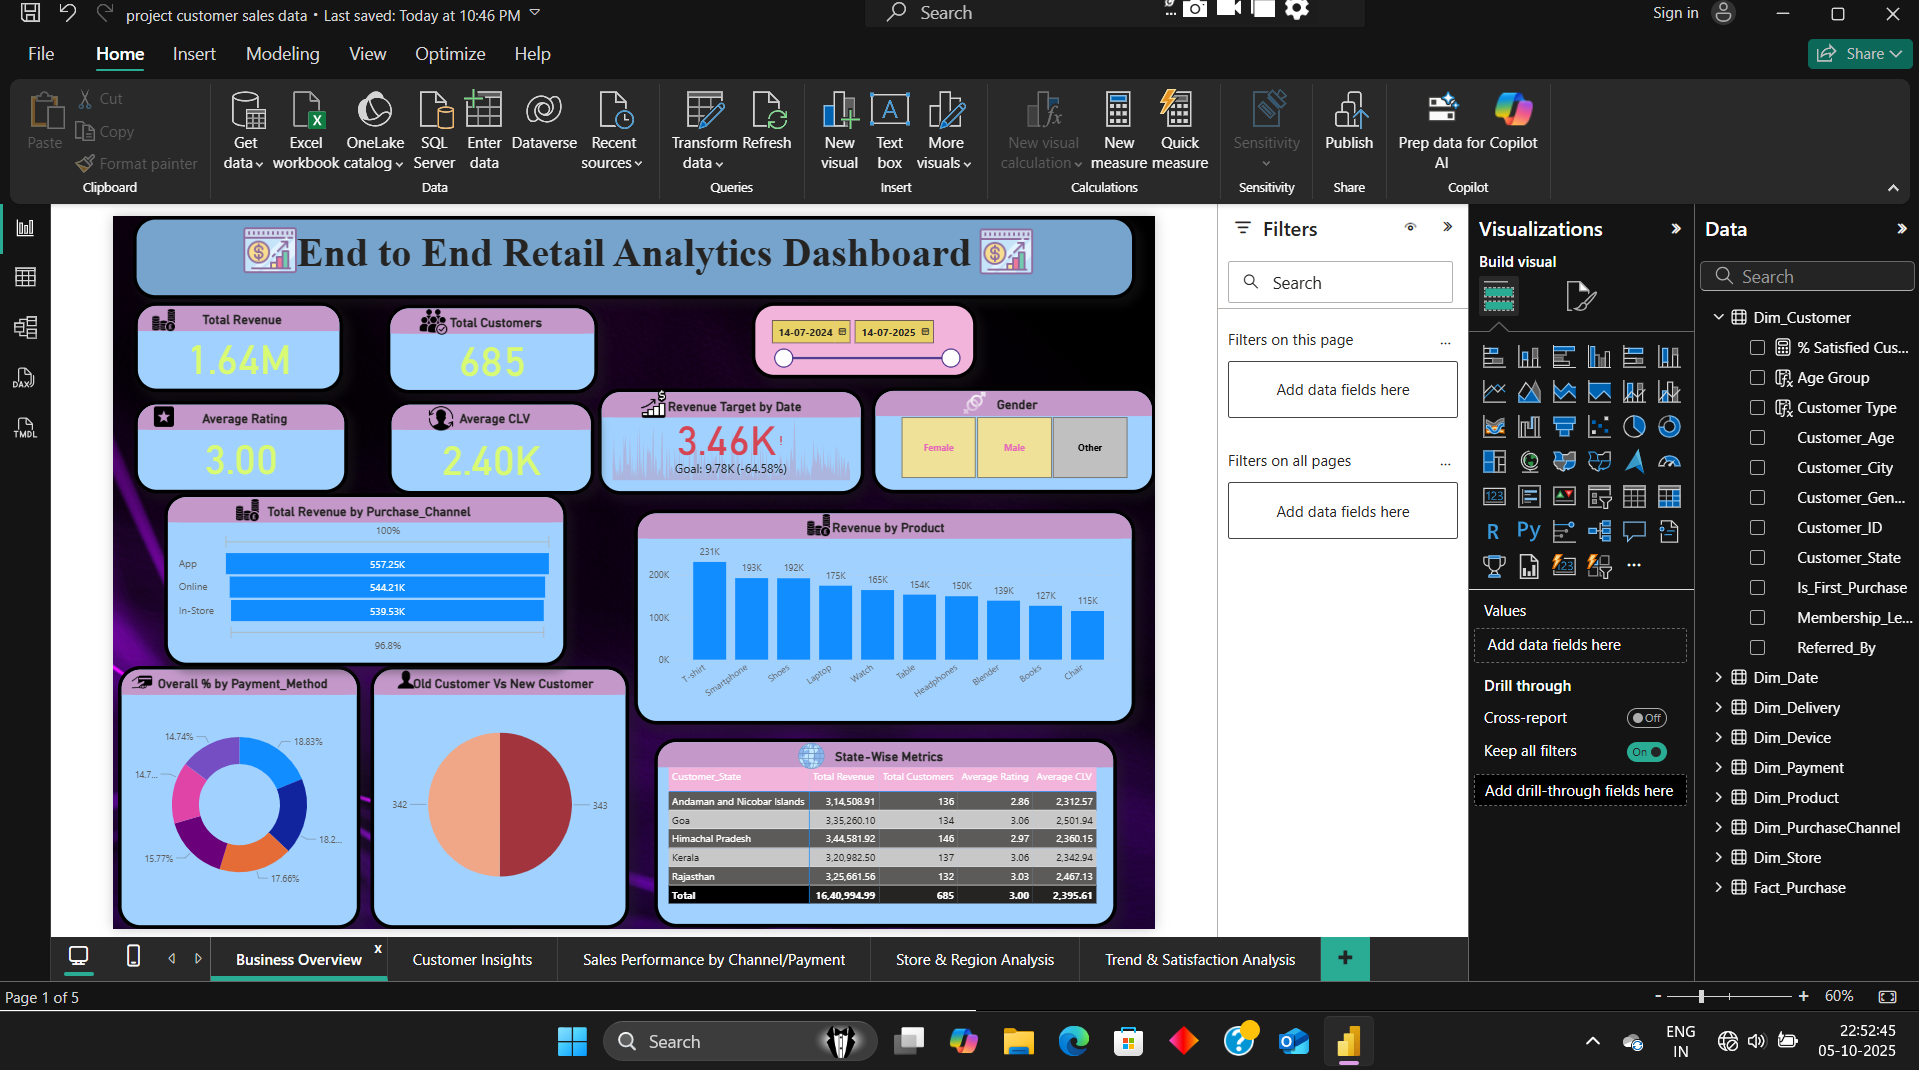

This screenshot's page, from the dashboard's own definition file:
{"tool":"powerbi","page":{"name":"Business Overview","canvas":[1390,950],"ordinal":0},"visuals":[{"type":"textbox","box":[26.7,0,1336.7,110],"z":0},{"type":"kpi","title":"Revenue Target by Date","fields":{"Goal":["Fact_Purchase.Revenue Target"],"TrendLine":["Dim_Date.Date"],"Indicator":["Sum(Fact_Purchase.Final_Amount)"]},"box":[646.7,230,355,141.7],"z":1000},{"type":"card","title":"Total Revenue","fields":{"Values":["Dim_Store.Total Revenue"]},"box":[28.3,115,278.3,120],"z":2000},{"type":"pieChart","title":"Old Customer Vs New Customer","fields":{"Category":["Dim_Customer.Customer Type"],"Y":["CountNonNull(Dim_Customer.Customer_ID)"]},"box":[343.3,600,345,350],"z":3000},{"type":"card","title":"Total Customers","fields":{"Values":["Dim_Store.Total Customers"]},"box":[365,118.3,281.7,118.3],"z":4000},{"type":"card","title":"Average Rating","fields":{"Values":["Dim_Store.Average Rating"]},"box":[28.3,246.7,285,123.3],"z":5000},{"type":"slicer","title":"Gender","fields":{"Values":["Dim_Customer.Customer_Gender"]},"box":[1011.7,228.3,378.3,141.7],"z":6000},{"type":"card","title":"Average CLV","fields":{"Values":["Dim_Store.% Satisfied Customers"]},"box":[366.7,246.7,275,125],"z":7000},{"type":"donutChart","title":"Overall % by Payment_Method","fields":{"Category":["Dim_Payment.Payment_Method"],"Y":["CountNonNull(Dim_Customer.Customer_ID)"]},"box":[6.7,600,323.3,350],"z":8000},{"type":"image","box":[138.3,0,141.7,91.7],"z":9000},{"type":"image","box":[1120,1.7,141.7,91.7],"z":10000},{"type":"image","box":[26.7,118.3,81.7,40],"z":11000},{"type":"image","box":[403.3,116.7,48.3,46.7],"z":12000},{"type":"image","box":[36.7,246.7,61.7,41.7],"z":13000},{"type":"image","box":[415,246.7,45,46.7],"z":14000},{"type":"image","box":[1120,228.3,58.3,41.7],"z":15000},{"type":"image","box":[680,225,81.7,50],"z":16000},{"type":"image","box":[6.7,603.3,63.3,36.7],"z":17000},{"type":"image","box":[366.7,600,48.3,36.7],"z":18000},{"type":"clusteredColumnChart","title":"Revenue by Product","fields":{"Category":["Dim_Product.Product_Name"],"Y":["Sum(Fact_Purchase.Final_Amount)"]},"box":[695,391.7,668.3,286.7],"z":19000},{"type":"pivotTable","title":"State-Wise Metrics","fields":{"Rows":["Dim_Customer.Customer_State"],"Values":["Dim_Store.Total Revenue","Dim_Store.Total Customers","Dim_Store.Average Rating","Dim_Store.Average CLV"]},"box":[721.7,696.7,616.7,251.7],"z":20000},{"type":"funnel","fields":{"Category":["Dim_PurchaseChannel.Purchase_Channel","Dim_Device.Device_Type"],"Y":["Dim_Store.Total Revenue"]},"box":[68.3,370,536.7,230],"z":21000},{"type":"image","box":[138.3,371.7,81.7,40],"z":22000},{"type":"image","box":[900,391.7,81.7,40],"z":23000},{"type":"image","box":[900,696.7,61.7,46.7],"z":24000},{"type":"slicer","fields":{"Values":["Dim_Date.Date"]},"box":[851.7,115,300,101.7],"z":25000},{"type":"image","box":[1093.3,140,51.7,36.7],"z":26000}]}

Visuals, with their boxes on the page's 1390x950 design canvas (x1, y1, x2, y2). These are canvas units, not pixel positions in the 1919x1070 screenshot, which may show the page scaled, cropped or inside an application window:
textbox: pyautogui.locateOnScreen(27, 0, 1363, 110)
"Revenue Target by Date" kpi: pyautogui.locateOnScreen(647, 230, 1002, 372)
"Total Revenue" card: pyautogui.locateOnScreen(28, 115, 307, 235)
"Old Customer Vs New Customer" pieChart: pyautogui.locateOnScreen(343, 600, 688, 950)
"Total Customers" card: pyautogui.locateOnScreen(365, 118, 647, 237)
"Average Rating" card: pyautogui.locateOnScreen(28, 247, 313, 370)
"Gender" slicer: pyautogui.locateOnScreen(1012, 228, 1390, 370)
"Average CLV" card: pyautogui.locateOnScreen(367, 247, 642, 372)
"Overall % by Payment_Method" donutChart: pyautogui.locateOnScreen(7, 600, 330, 950)
image: pyautogui.locateOnScreen(138, 0, 280, 92)
image: pyautogui.locateOnScreen(1120, 2, 1262, 93)
image: pyautogui.locateOnScreen(27, 118, 108, 158)
image: pyautogui.locateOnScreen(403, 117, 452, 163)
image: pyautogui.locateOnScreen(37, 247, 98, 288)
image: pyautogui.locateOnScreen(415, 247, 460, 293)
image: pyautogui.locateOnScreen(1120, 228, 1178, 270)
image: pyautogui.locateOnScreen(680, 225, 762, 275)
image: pyautogui.locateOnScreen(7, 603, 70, 640)
image: pyautogui.locateOnScreen(367, 600, 415, 637)
"Revenue by Product" clusteredColumnChart: pyautogui.locateOnScreen(695, 392, 1363, 678)
"State-Wise Metrics" pivotTable: pyautogui.locateOnScreen(722, 697, 1338, 948)
funnel - Dim_PurchaseChannel.Purchase_Channel x Dim_Device.Device_Type: pyautogui.locateOnScreen(68, 370, 605, 600)
image: pyautogui.locateOnScreen(138, 372, 220, 412)
image: pyautogui.locateOnScreen(900, 392, 982, 432)
image: pyautogui.locateOnScreen(900, 697, 962, 743)
slicer - Dim_Date.Date: pyautogui.locateOnScreen(852, 115, 1152, 217)
image: pyautogui.locateOnScreen(1093, 140, 1145, 177)
